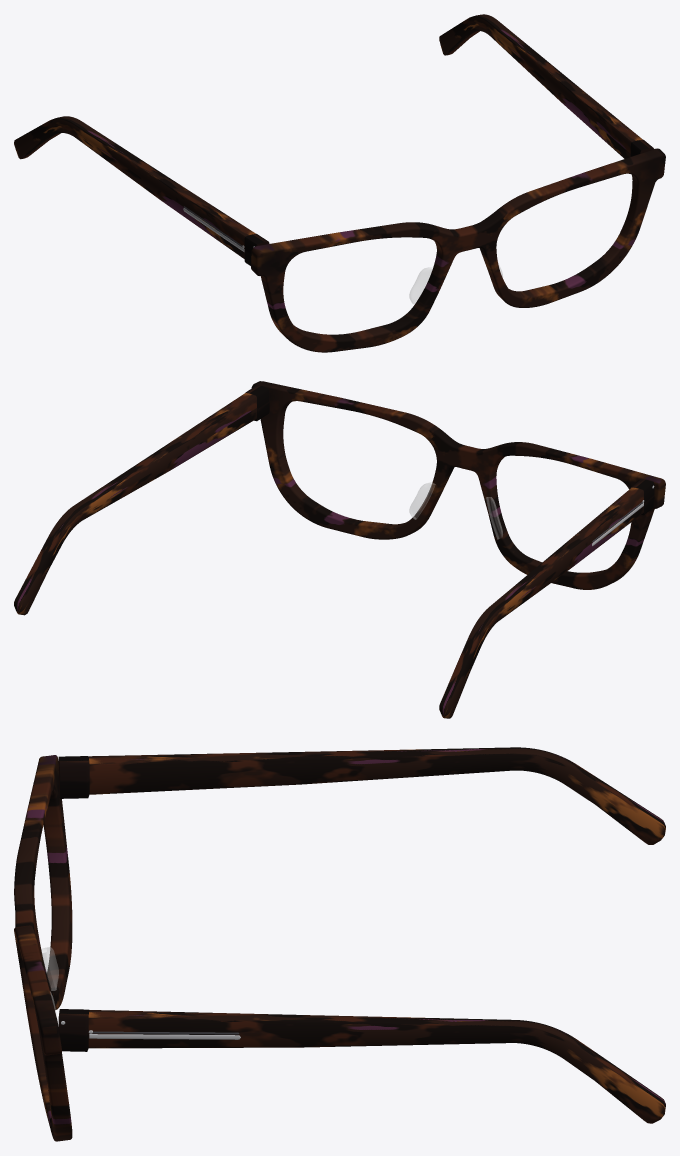
The model's file is arturo-calle-popayan-3d.glb.
3 views of the same model, one above another, from view 1: azimuth 30°, elevation 25°; view 2: azimuth 150°, elevation 25°; view 3: azimuth 270°, elevation 25° (orthographic). The views are drawn at different scales.
Parts seen in each view (by area): view 1: frente, varilla_der, varilla_izq; view 2: frente, varilla_izq, varilla_der; view 3: varilla_izq, varilla_der, frente.
Boxes of the visible parts, <box> form: frente: <box>251,148,665,352</box>; varilla_der: <box>14,116,269,265</box>; varilla_izq: <box>439,14,653,158</box>; frente: <box>251,381,665,589</box>; varilla_izq: <box>14,385,269,615</box>; varilla_der: <box>439,479,654,718</box>; varilla_izq: <box>58,1009,665,1123</box>; varilla_der: <box>58,747,665,844</box>; frente: <box>14,755,72,1141</box>.
Size of the model in its own units: 0.1535 by 0.0429 by 0.1487.
6 materials, 3 textured.
